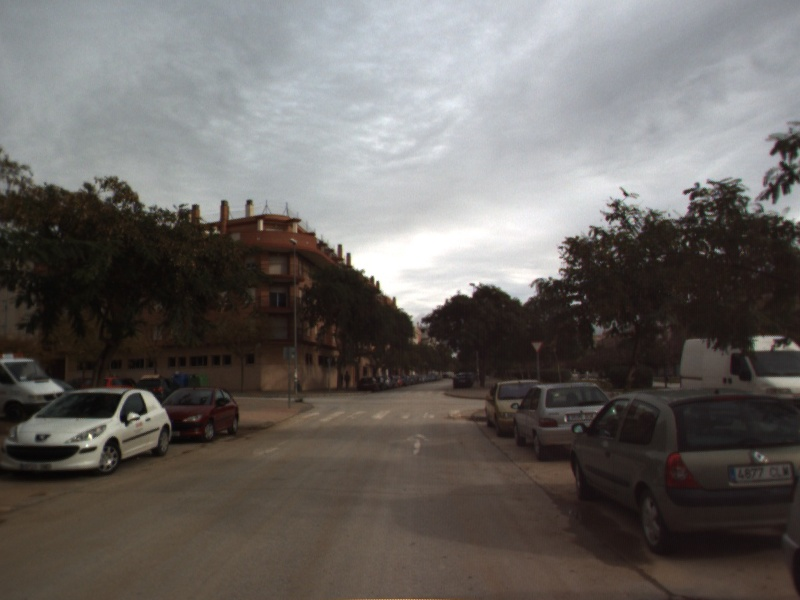STRAIGHT: (403, 431, 433, 457)
